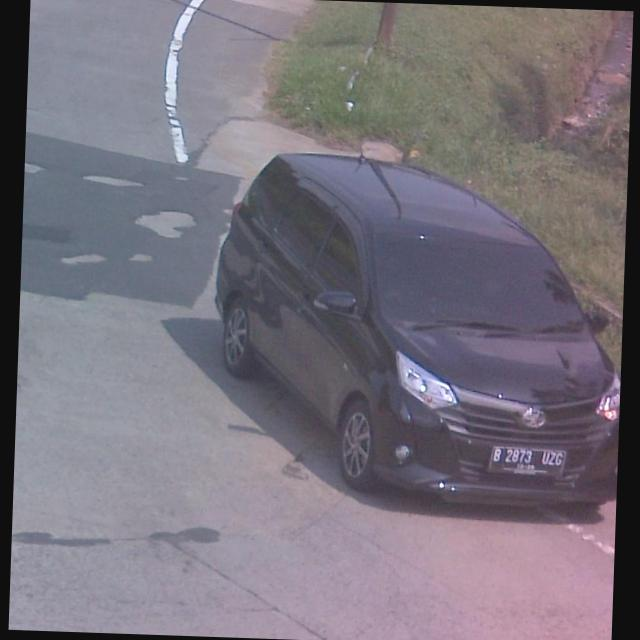plate: (489, 445, 568, 479)
